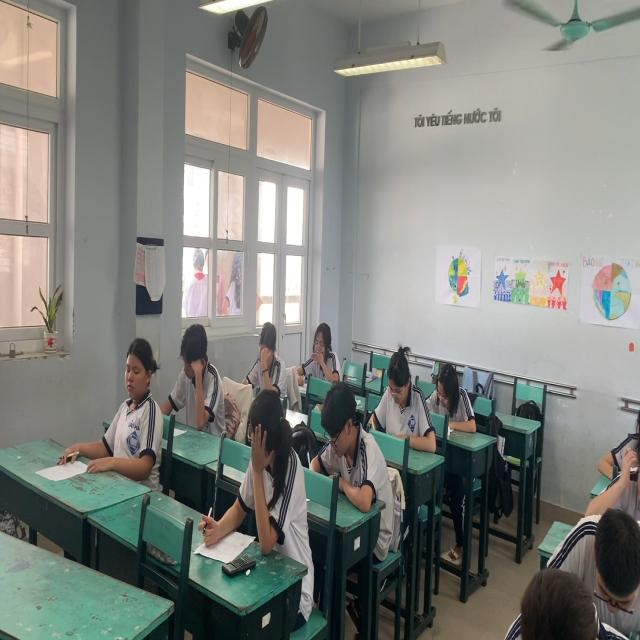cheating: (204, 368, 289, 544)
not_cheating: (484, 538, 640, 640), (83, 302, 153, 484), (298, 349, 367, 492), (554, 472, 633, 596), (154, 294, 212, 425), (364, 320, 414, 438), (596, 406, 640, 504), (598, 344, 640, 441), (247, 301, 285, 406), (431, 348, 474, 438), (306, 310, 341, 390)
